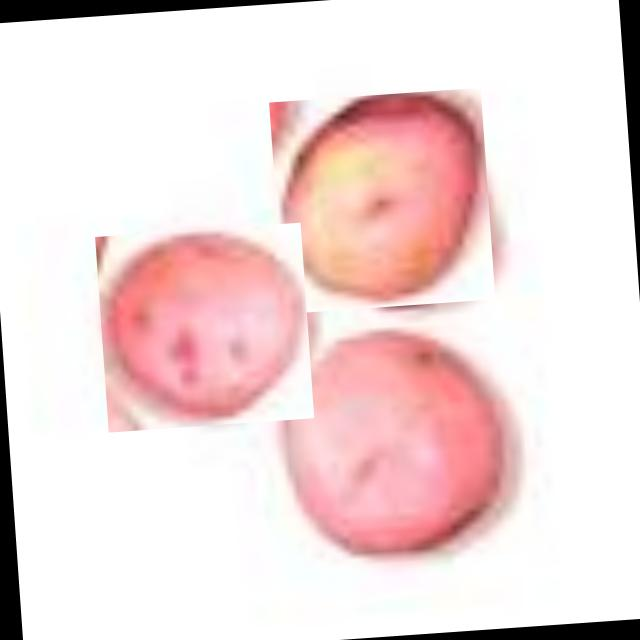Defected potato: (273, 318, 511, 571), (267, 86, 493, 312), (94, 221, 312, 431)
